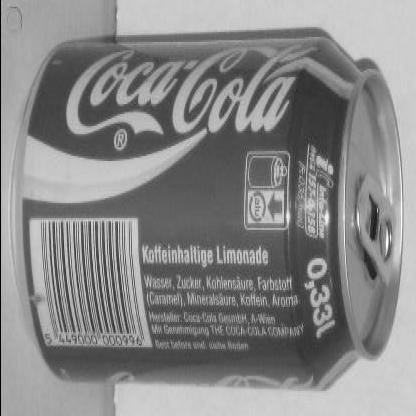alumunium_can: (7, 30, 405, 398)
